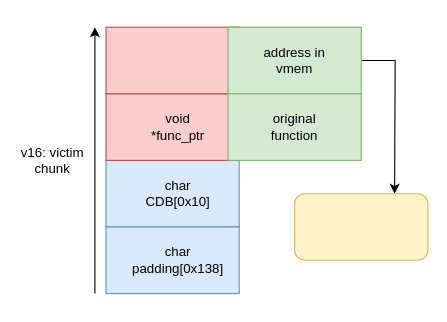
Some shapes in this 447 by 322 pixel diagram are drawn without their labels. The shapes that lost their labels are listed below. From the top down, each one's centre as x and y in pixels, then its label:
At [172,60]: "void *second_param".
At [361,226]: "guest physical memory".
